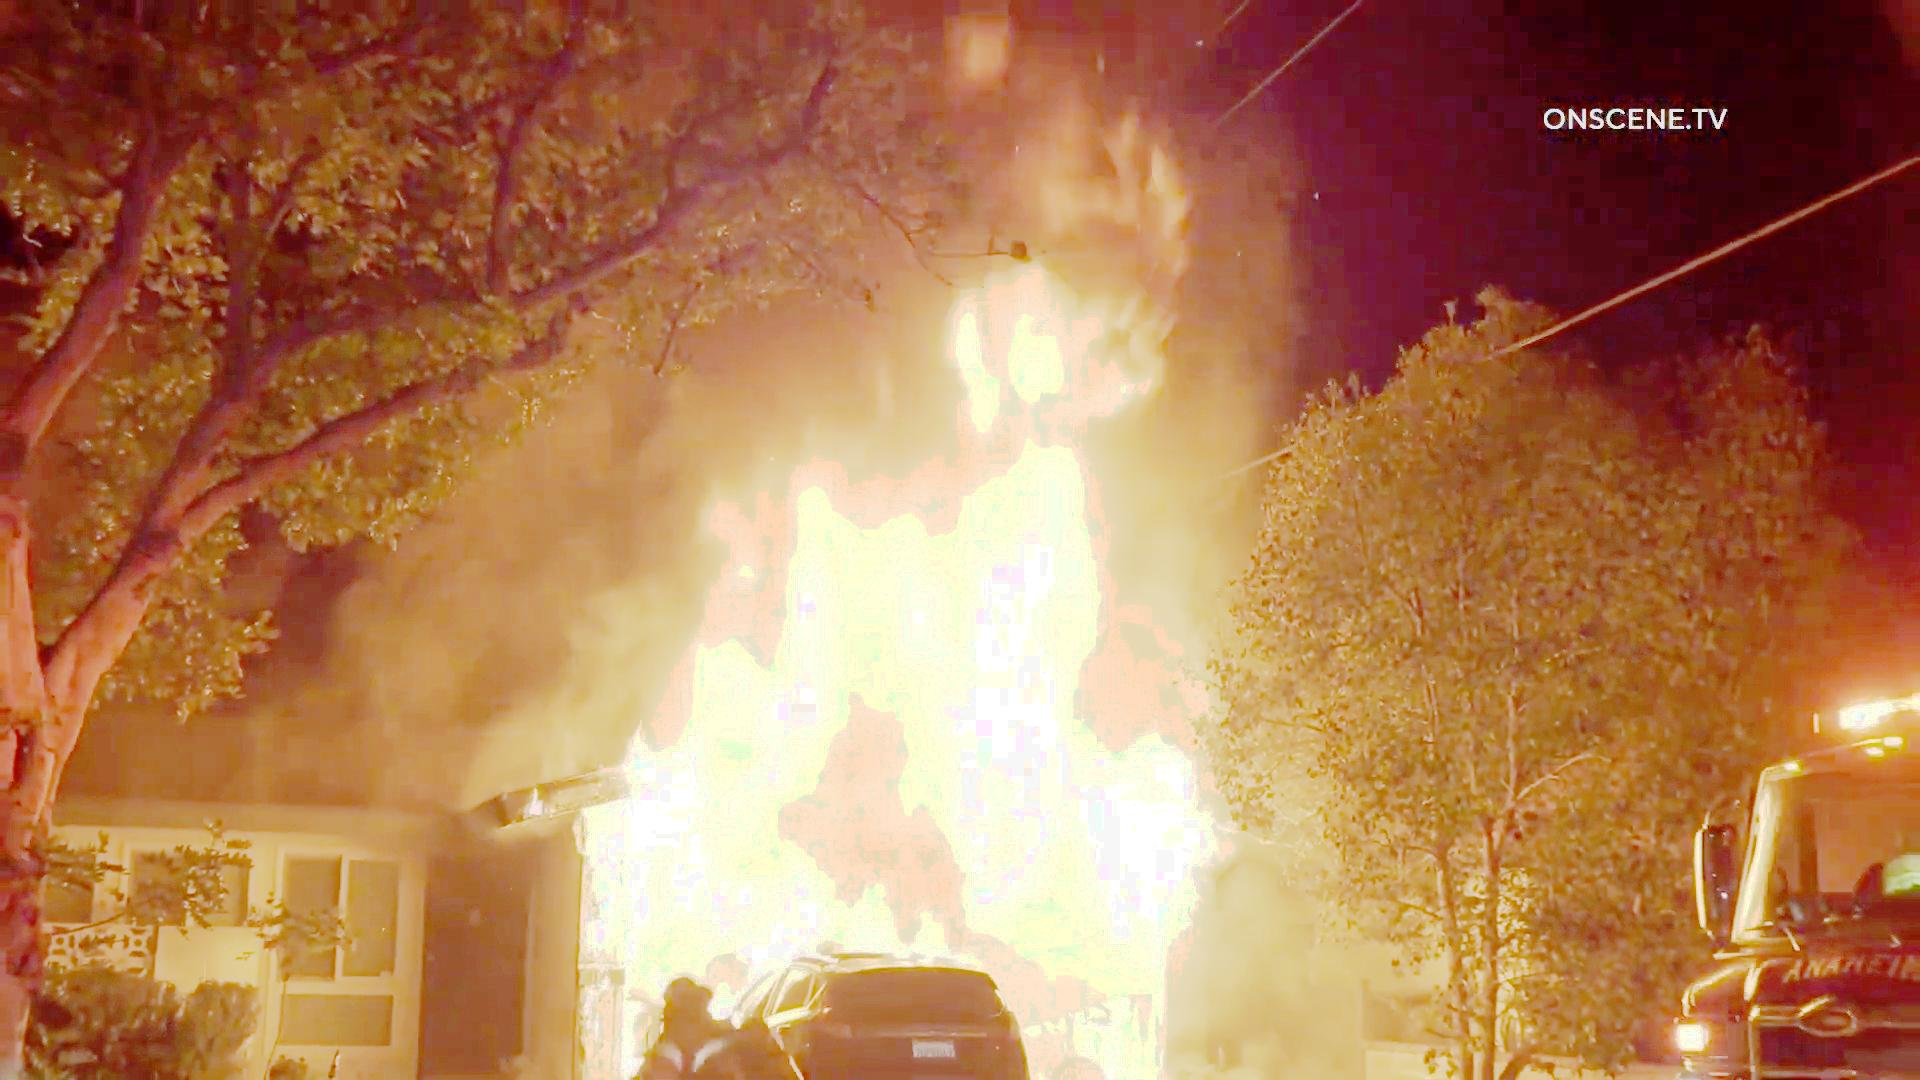fire: (993, 24, 1195, 864), (775, 435, 986, 909), (640, 411, 775, 930), (553, 675, 741, 959), (1017, 880, 1217, 1060)
smoke: (472, 435, 657, 676), (687, 270, 973, 417), (306, 596, 443, 798)
